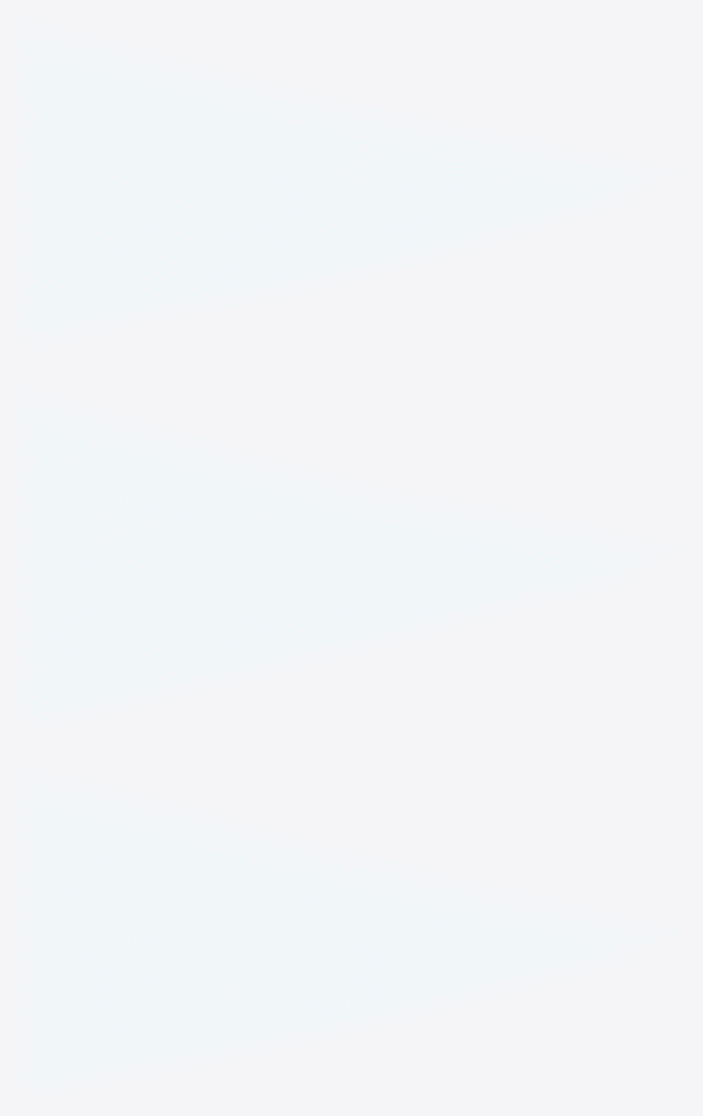
Rendered from 0_lev1.glb.
The picture shows the model from 3 angles, top to bottom: view 1: azimuth 30°, elevation 25°; view 2: azimuth 150°, elevation 25°; view 3: azimuth 270°, elevation 25°; orthographic projection.
Parts seen in each view (by area): view 1: 0_lev1; view 2: 0_lev1; view 3: 0_lev1.
Part boxes in pixels (x1,y1,x2,y2): 0_lev1: (14, 14, 682, 351); 0_lev1: (14, 384, 682, 730); 0_lev1: (17, 764, 679, 1099).
Bounding box in the file's own units: 3.3 × 0.2147 × 2.86.
1 material, 1 textured.
